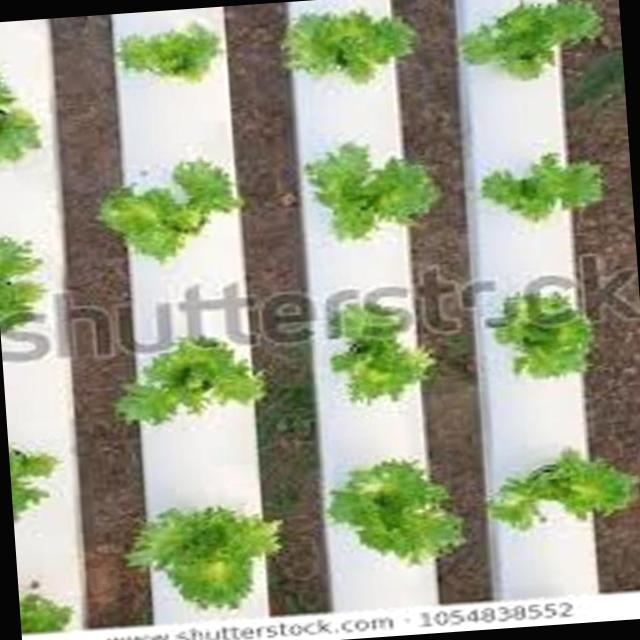Lettuce-Ready-to-Harvest: (117, 283, 264, 423), (126, 506, 279, 608), (100, 158, 238, 261), (327, 460, 463, 563), (305, 142, 436, 237), (489, 452, 633, 528), (330, 302, 434, 402), (462, 3, 598, 76), (285, 9, 414, 83), (494, 293, 591, 376), (482, 153, 602, 220), (117, 22, 221, 80), (0, 235, 43, 333), (9, 446, 57, 519), (0, 73, 38, 162), (19, 593, 69, 632)
